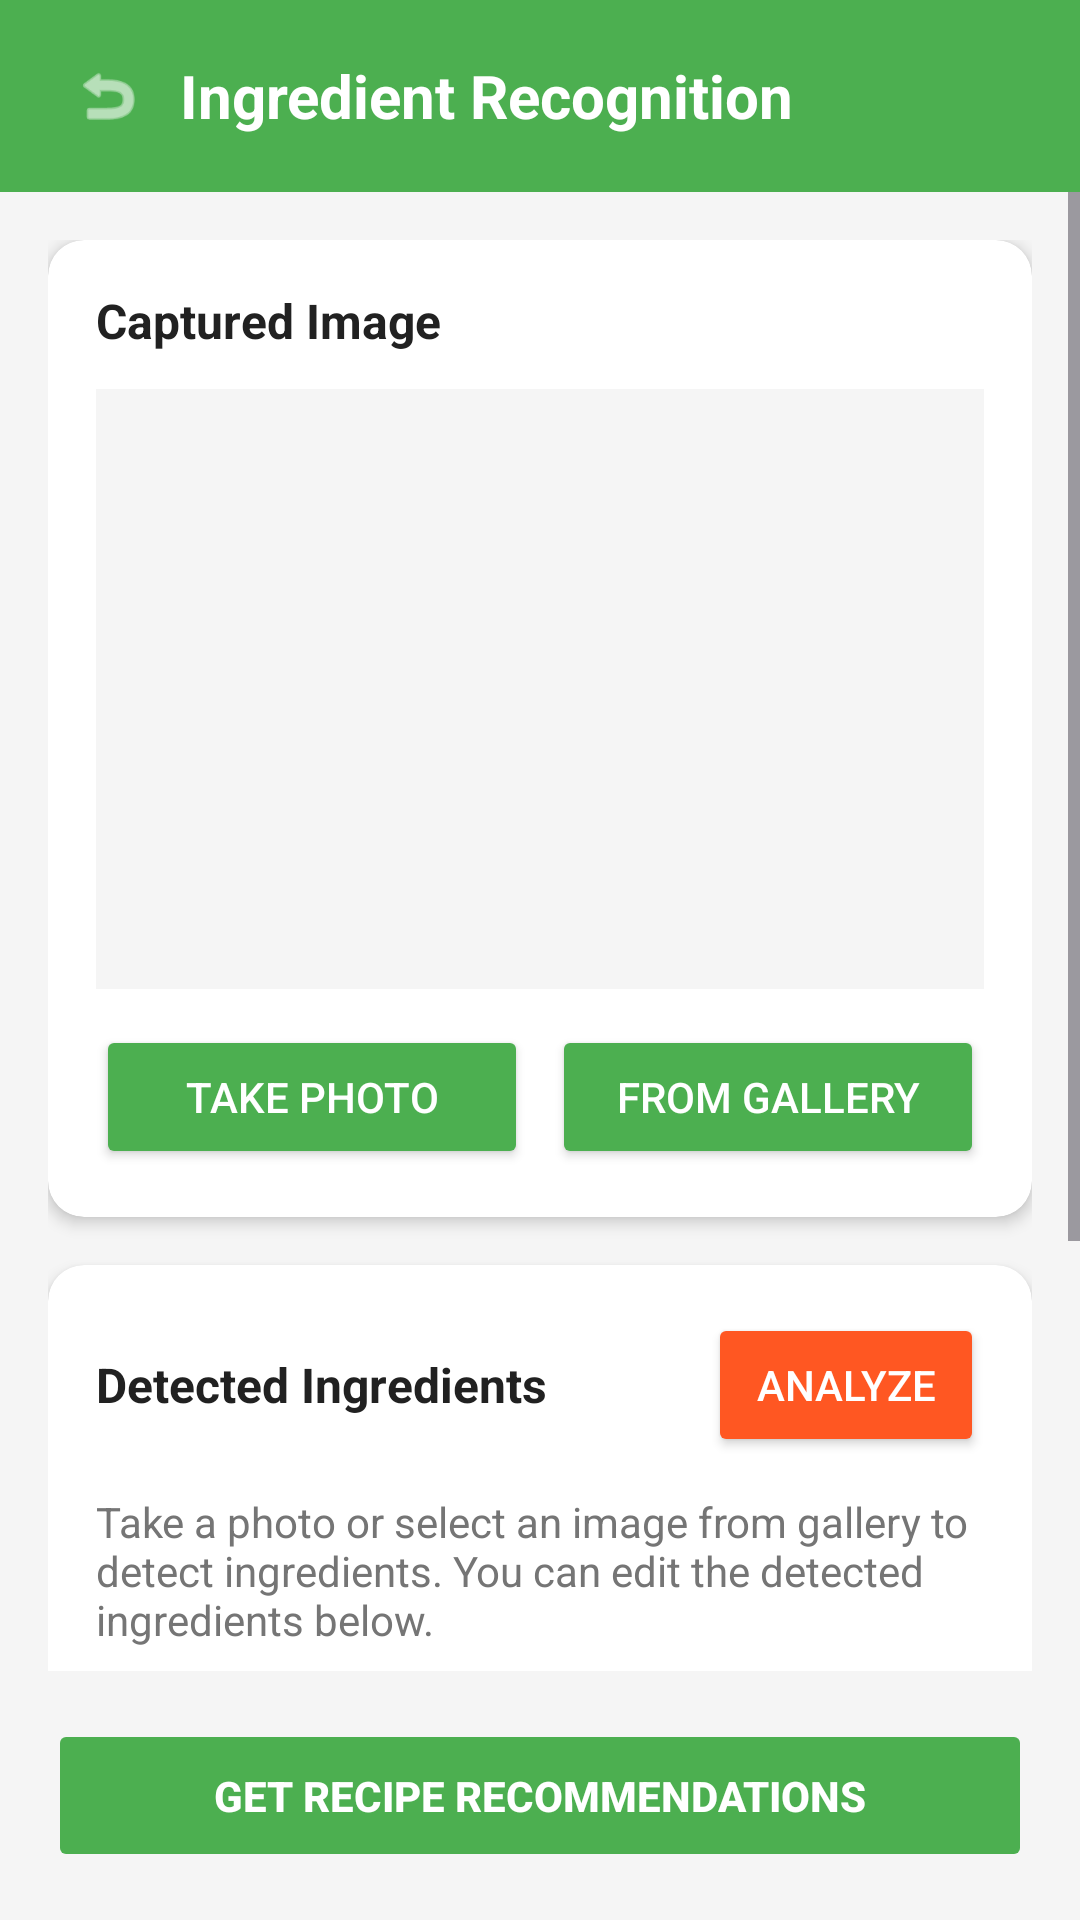

Icon click points for this 1080 × 1920 phone screenshot, format (x=x, y=y):
Back: (x=109, y=96)
